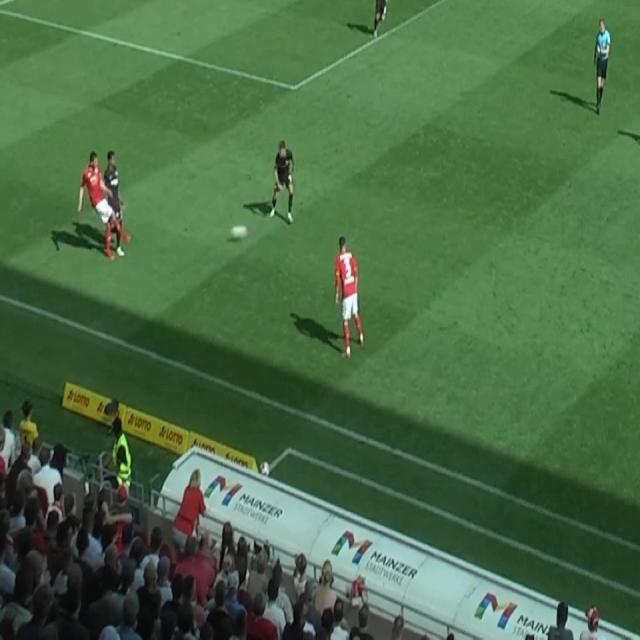ball: (230, 224, 249, 241)
